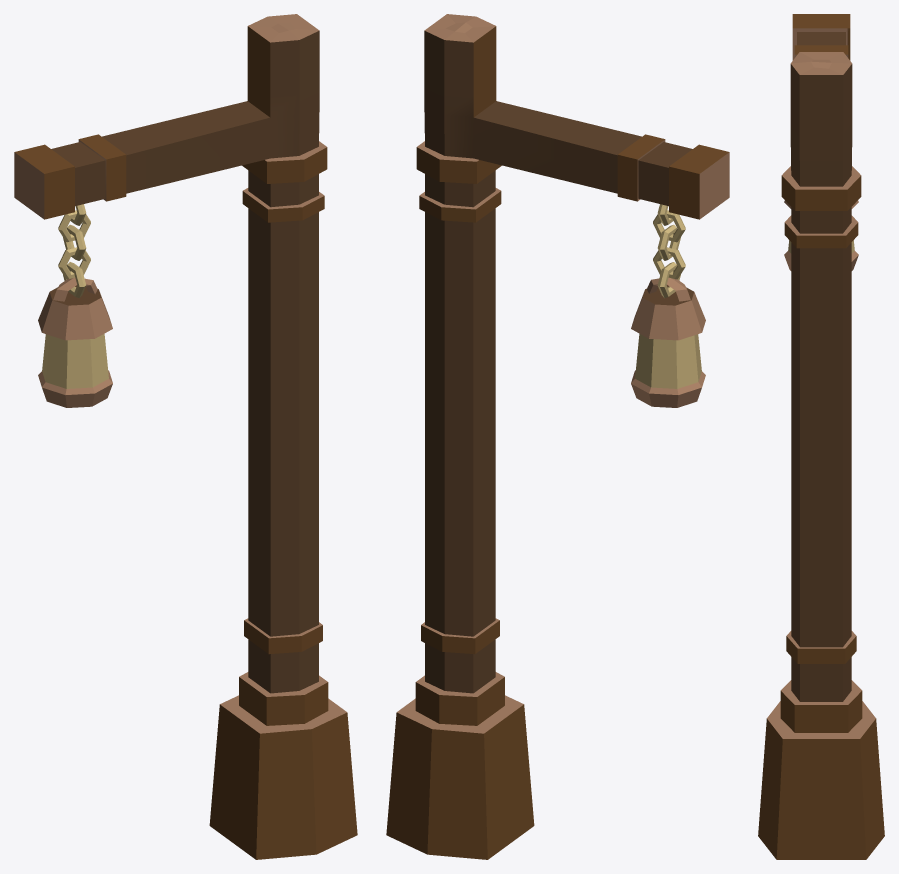
Rendered from Lantern.fbx.
3 renders of one model, left to right at view 1: azimuth 30°, elevation 25°; view 2: azimuth 150°, elevation 25°; view 3: azimuth 270°, elevation 25°, orthographic. The views are drawn at different scales.
Parts seen in each view (by area): view 1: Lantern; view 2: Lantern; view 3: Lantern.
Part boxes in pixels (left/top/right/bottom): Lantern: left=14, top=14, right=357, bottom=859; Lantern: left=386, top=14, right=729, bottom=859; Lantern: left=758, top=14, right=884, bottom=859.
Bounding box in the file's own units: 1.22 × 3.08 × 0.4575.
